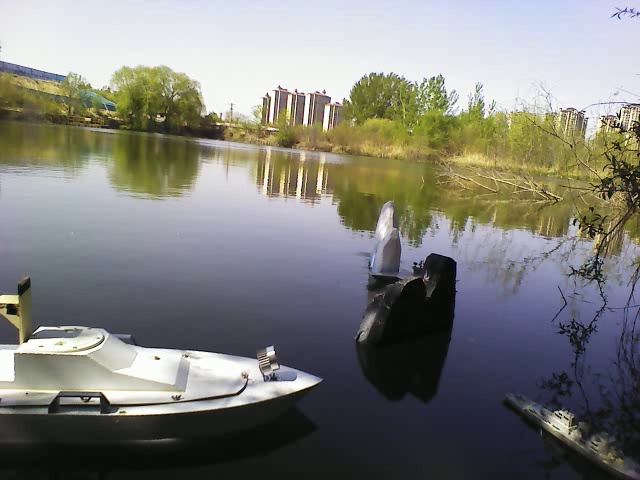boat: (3, 326, 331, 444)
iceberg: (371, 201, 405, 278)
rock: (352, 252, 461, 348)
warship: (504, 381, 636, 474)
